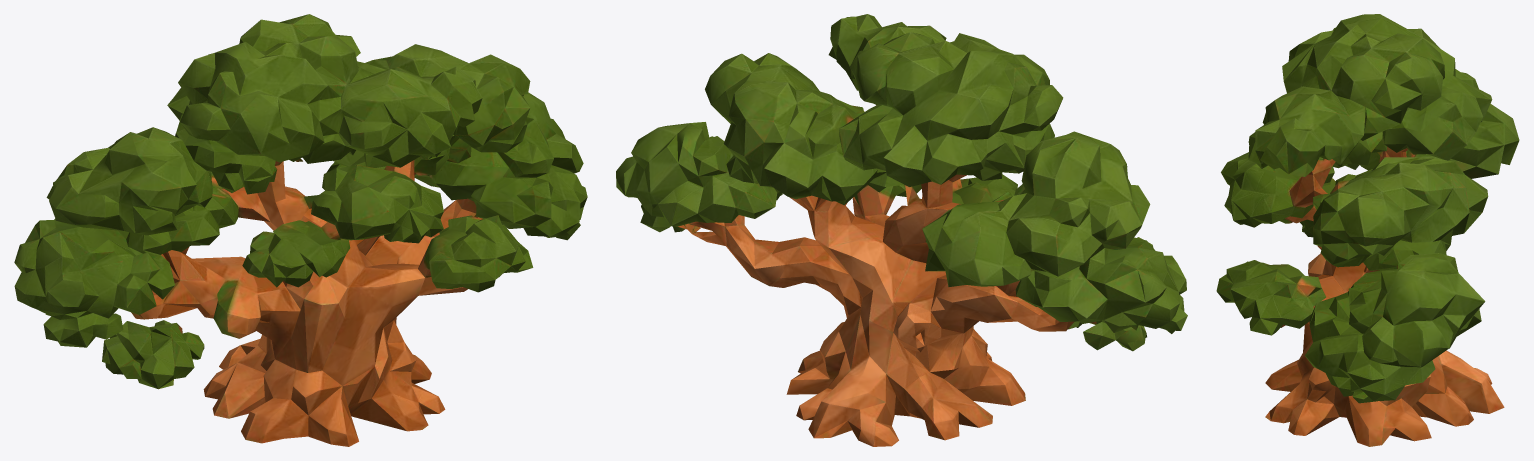
File: oak-tree.glb
The picture shows the model from 3 angles, left to right: view 1: azimuth 30°, elevation 25°; view 2: azimuth 150°, elevation 25°; view 3: azimuth 270°, elevation 25°; orthographic projection. The views are drawn at different scales.
Size of the model in its own units: 1.9 by 1.21 by 0.955.
1 material, 1 textured.
